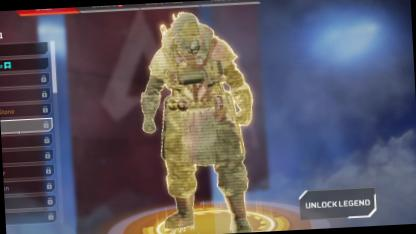Target: (136, 4, 262, 194)
